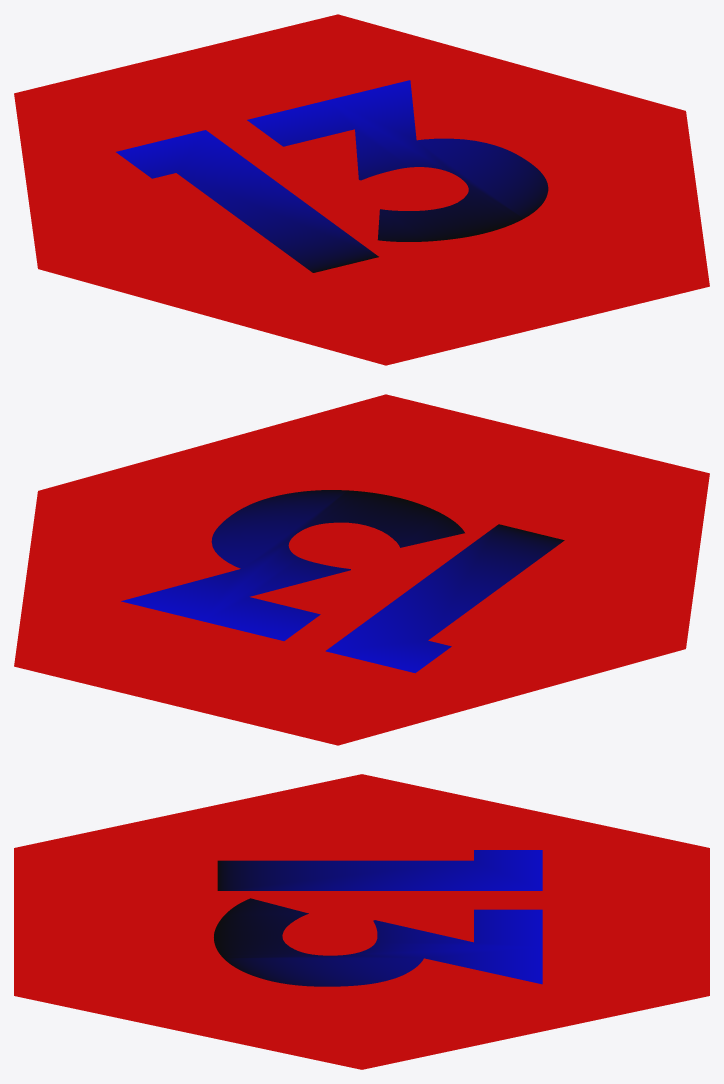
The model's file is SM_Number_13.fbx.
The picture shows the model from 3 angles, top to bottom: view 1: azimuth 30°, elevation 25°; view 2: azimuth 150°, elevation 25°; view 3: azimuth 270°, elevation 25°; orthographic projection. The views are drawn at different scales.
Parts seen in each view (by area): view 1: FBX_OUT; view 2: FBX_OUT; view 3: FBX_OUT.
Part boxes in pixels (box(x1,y1,x2,y2)): FBX_OUT: box(14, 14, 709, 365); FBX_OUT: box(14, 394, 709, 745); FBX_OUT: box(14, 774, 709, 1069).
Bounding box in the file's own units: 50 × 0.2917 × 49.71.
